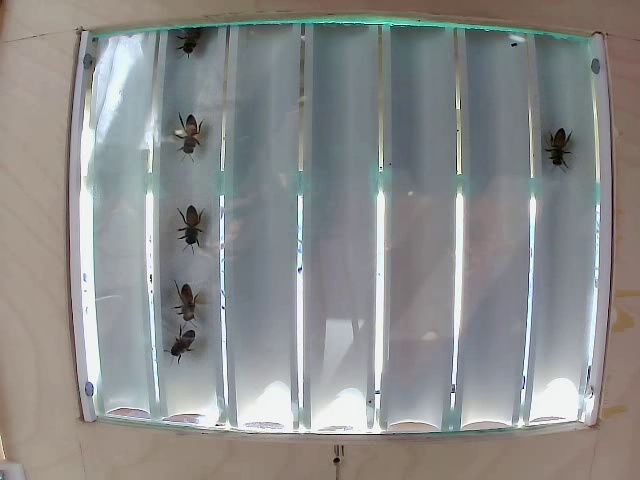bee: (179, 195, 211, 239), (170, 287, 208, 318), (167, 328, 198, 359), (542, 117, 562, 164), (179, 112, 203, 150)
